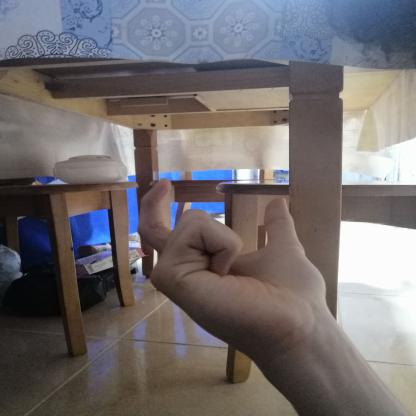NOON: (114, 164, 337, 363)
